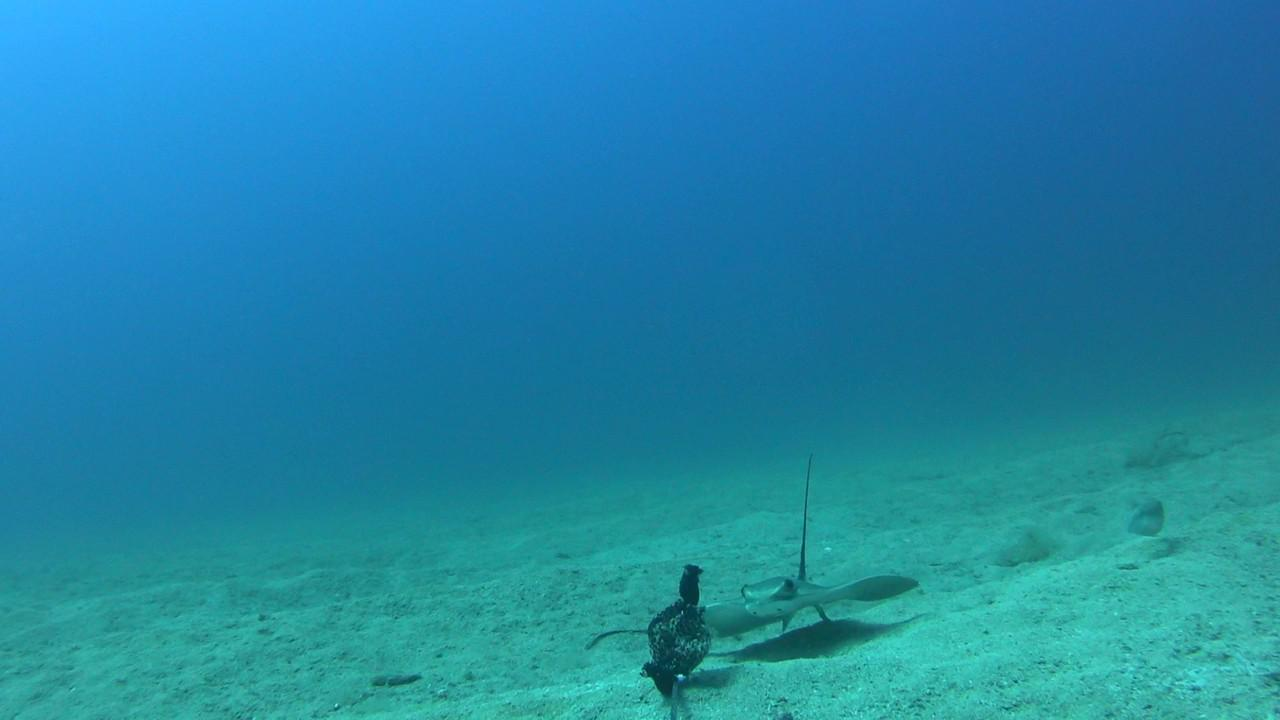myliobatis: (656, 448, 939, 683)
raor: (1129, 496, 1161, 541)
